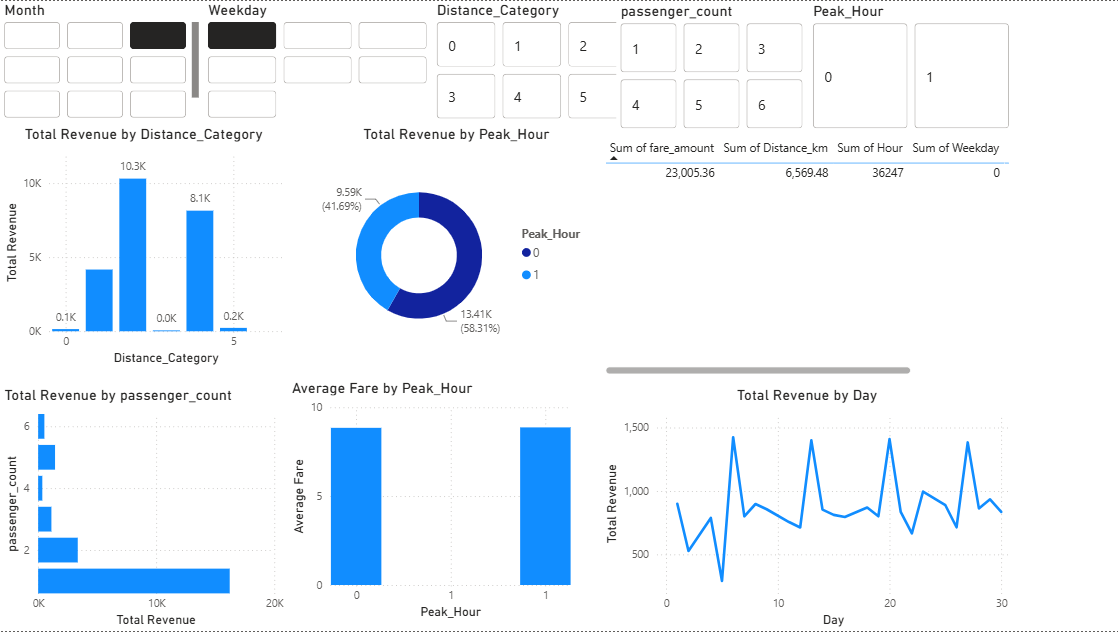

This screenshot's page, from the dashboard's own definition file:
{"tool":"powerbi","page":{"name":"💼 Business Insights","canvas":[1280,720],"ordinal":4},"visuals":[{"type":"clusteredColumnChart","fields":{"Category":["prediction_output.Distance_Category"],"Y":["prediction_output.Total Revenue"]},"box":[0,141.2,328.8,280],"z":0},{"type":"clusteredBarChart","fields":{"Y":["prediction_output.Total Revenue"],"Category":["prediction_output.passenger_count"]},"box":[0,440,328.8,280],"z":1},{"type":"donutChart","fields":{"Category":["prediction_output.Peak_Hour"],"Y":["prediction_output.Total Revenue"]},"box":[357.5,141.2,328.8,280],"z":2},{"type":"columnChart","fields":{"Category":["prediction_output.Peak_Hour"],"Y":["prediction_output.Average Fare"]},"box":[328.8,431.2,328.8,280],"z":3},{"type":"tableEx","fields":{"Values":["Sum(prediction_output.fare_amount)","Sum(prediction_output.Distance_km)","Sum(prediction_output.Hour)","Sum(prediction_output.Weekday)","Sum(prediction_output.passenger_count)"]},"box":[686.2,151.2,472.5,280],"z":4},{"type":"lineChart","fields":{"Category":["prediction_output.Day"],"Y":["prediction_output.Total Revenue"]},"box":[686.2,440,473.8,280],"z":5},{"type":"advancedSlicerVisual","fields":{"Values":["prediction_output.Month"]},"box":[0,0,232.5,140],"z":6},{"type":"advancedSlicerVisual","fields":{"Values":["prediction_output.Weekday"]},"box":[232.5,0,261.2,140],"z":7},{"type":"advancedSlicerVisual","fields":{"Values":["prediction_output.Distance_Category"]},"box":[493.8,0,228.8,140],"z":8},{"type":"advancedSlicerVisual","fields":{"Values":["prediction_output.passenger_count"]},"box":[703.8,1.2,220,150],"z":9},{"type":"advancedSlicerVisual","fields":{"Values":["prediction_output.Peak_Hour"]},"box":[924,1,235,150],"z":10}]}

Visuals, with their boxes in screenshot pixels (x1, y1, x2, y2), scaled from the page's 1280x720 canvas onto the 1118x632 screenshot:
clusteredColumnChart - prediction_output.Distance_Category x prediction_output.Total Revenue: box=[0, 124, 287, 370]
clusteredBarChart - prediction_output.Total Revenue x prediction_output.passenger_count: box=[0, 386, 287, 631]
donutChart - prediction_output.Peak_Hour x prediction_output.Total Revenue: box=[312, 124, 599, 370]
columnChart - prediction_output.Peak_Hour x prediction_output.Average Fare: box=[287, 378, 574, 624]
tableEx - Sum(prediction_output.fare_amount) x Sum(prediction_output.Distance_km): box=[599, 133, 1012, 378]
lineChart - prediction_output.Day x prediction_output.Total Revenue: box=[599, 386, 1013, 631]
advancedSlicerVisual - prediction_output.Month: box=[0, 0, 203, 123]
advancedSlicerVisual - prediction_output.Weekday: box=[203, 0, 431, 123]
advancedSlicerVisual - prediction_output.Distance_Category: box=[431, 0, 631, 123]
advancedSlicerVisual - prediction_output.passenger_count: box=[615, 1, 807, 133]
advancedSlicerVisual - prediction_output.Peak_Hour: box=[807, 1, 1012, 133]
